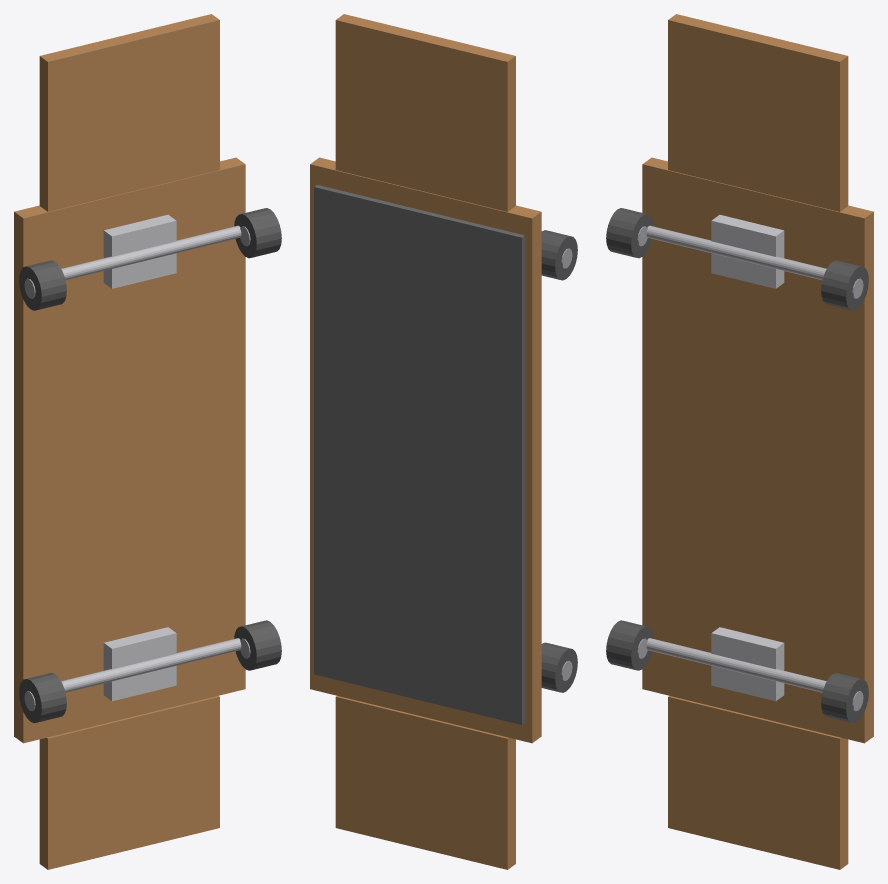
The model's file is skateboard_classic.glb.
The picture shows the model from 3 angles, left to right: view 1: azimuth 30°, elevation 25°; view 2: azimuth 150°, elevation 25°; view 3: azimuth 330°, elevation 25°; orthographic projection.
Visible parts, largest first — view 1: Deck_Center, Deck_Nose, Deck_Tail, Front_Baseplate, Rear_Baseplate, Front_Axle, Rear_Axle, Front_Wheel_L, Rear_Wheel_L, Front_Wheel_R, Rear_Wheel_R; view 2: Grip_Tape, Deck_Nose, Deck_Tail, Deck_Center, Front_Wheel_L, Rear_Wheel_L; view 3: Deck_Center, Deck_Nose, Deck_Tail, Front_Baseplate, Rear_Baseplate, Front_Axle, Rear_Axle, Front_Wheel_R, Rear_Wheel_R, Front_Wheel_L, Rear_Wheel_L.
Part boxes in pixels (x1,y1,x2,y2): Deck_Center: [14, 157, 245, 743]; Deck_Nose: [39, 14, 219, 211]; Deck_Tail: [39, 696, 219, 869]; Front_Baseplate: [103, 214, 176, 288]; Rear_Baseplate: [103, 627, 176, 701]; Front_Axle: [61, 225, 241, 280]; Rear_Axle: [61, 638, 241, 692]; Front_Wheel_L: [19, 260, 66, 310]; Rear_Wheel_L: [19, 673, 66, 722]; Front_Wheel_R: [234, 208, 281, 258]; Rear_Wheel_R: [234, 620, 281, 670]; Grip_Tape: [314, 185, 524, 724]; Deck_Nose: [335, 14, 515, 211]; Deck_Tail: [335, 696, 515, 869]; Deck_Center: [310, 157, 541, 743]; Front_Wheel_L: [541, 230, 577, 280]; Rear_Wheel_L: [541, 642, 577, 692]; Deck_Center: [642, 157, 873, 743]; Deck_Nose: [668, 14, 848, 211]; Deck_Tail: [668, 696, 848, 869]; Front_Baseplate: [711, 214, 784, 288]; Rear_Baseplate: [711, 627, 784, 701]; Front_Axle: [646, 225, 826, 280]; Rear_Axle: [646, 638, 826, 692]; Front_Wheel_R: [821, 260, 868, 310]; Rear_Wheel_R: [821, 673, 868, 722]; Front_Wheel_L: [606, 208, 653, 258]; Rear_Wheel_L: [606, 620, 653, 670].
Bounding box in the file's own units: 0.675 × 2.15 × 0.1925.
